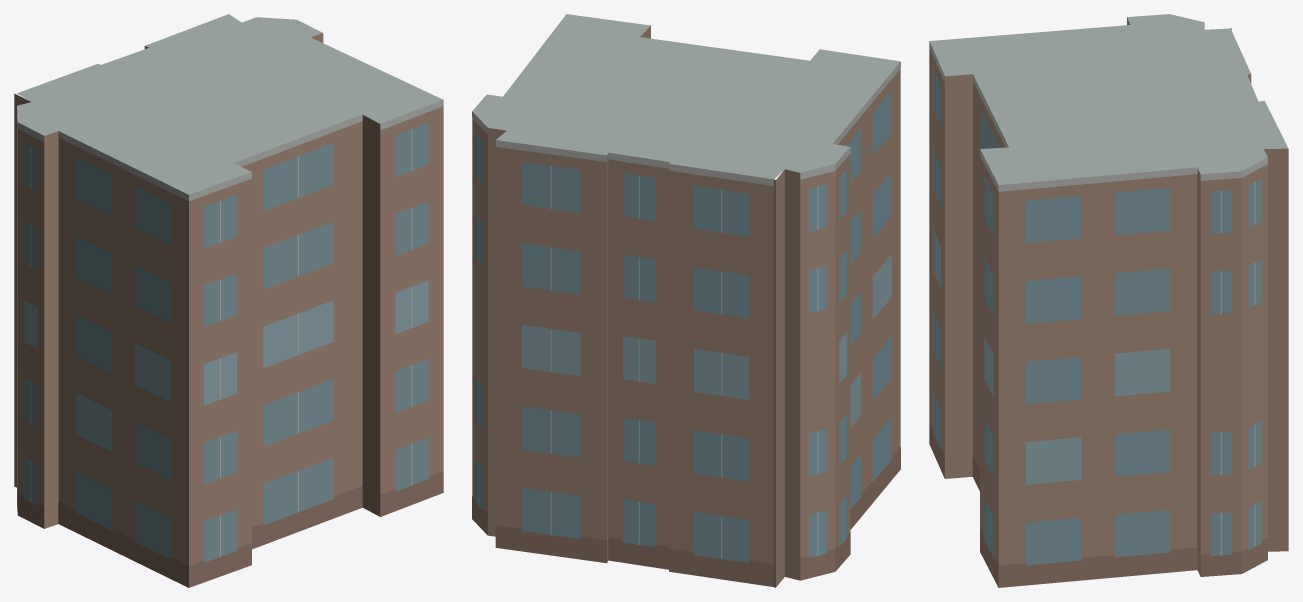
File: survey-upis-32616622.glb
The picture shows the model from 3 angles, left to right: view 1: azimuth 30°, elevation 25°; view 2: azimuth 150°, elevation 25°; view 3: azimuth 270°, elevation 25°; orthographic projection. The views are drawn at different scales.
Parts seen in each view (by area): view 1: survey-upis-32616622.tmp; view 2: survey-upis-32616622.tmp; view 3: survey-upis-32616622.tmp.
Boxes of the visible parts, <box> form: survey-upis-32616622.tmp: <box>14,14,443,587</box>; survey-upis-32616622.tmp: <box>472,14,900,587</box>; survey-upis-32616622.tmp: <box>929,14,1288,587</box>.
Size of the model in its own units: 13.46 by 14.75 by 11.94.
